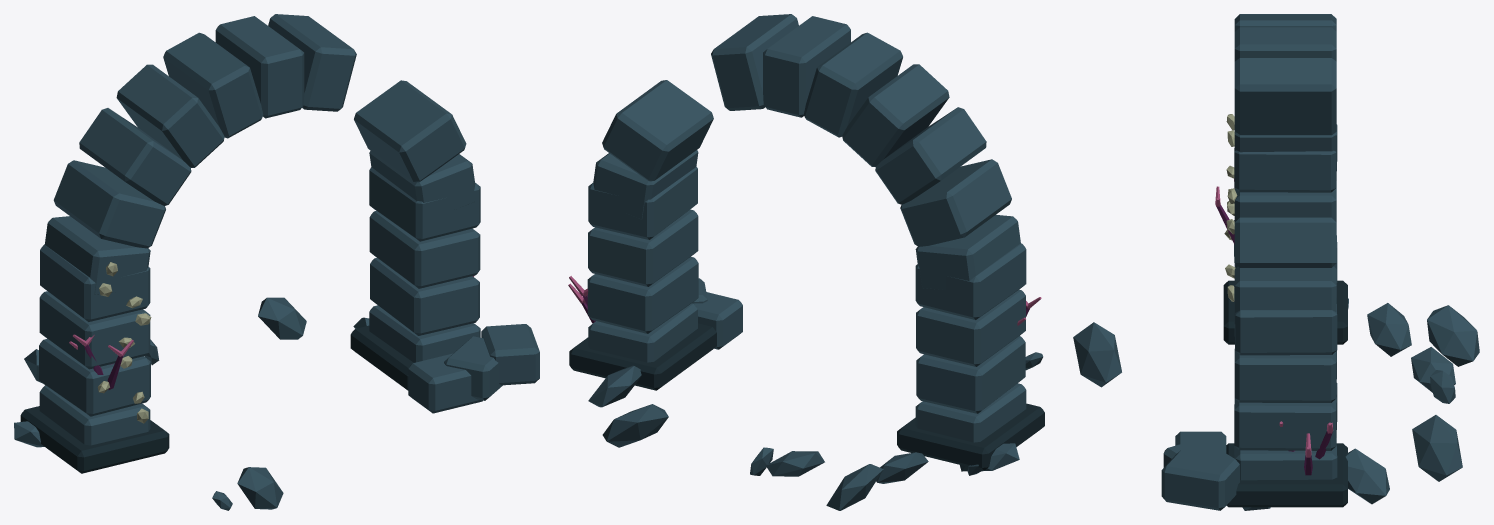
File: 01_broken_arch.obj
3 views of the same model, side by side, from view 1: azimuth 30°, elevation 25°; view 2: azimuth 150°, elevation 25°; view 3: azimuth 270°, elevation 25° (orthographic).
Parts seen in each view (by area): view 1: 01_broken_arch; view 2: 01_broken_arch; view 3: 01_broken_arch.
Boxes of the visible parts, x1,y1,x2,y2 form: 01_broken_arch: (14,14,539,510); 01_broken_arch: (568,14,1044,510); 01_broken_arch: (1073,14,1479,510).
Size of the model in its own units: 9.64 by 7.62 by 7.18.
1 material, 1 textured.
